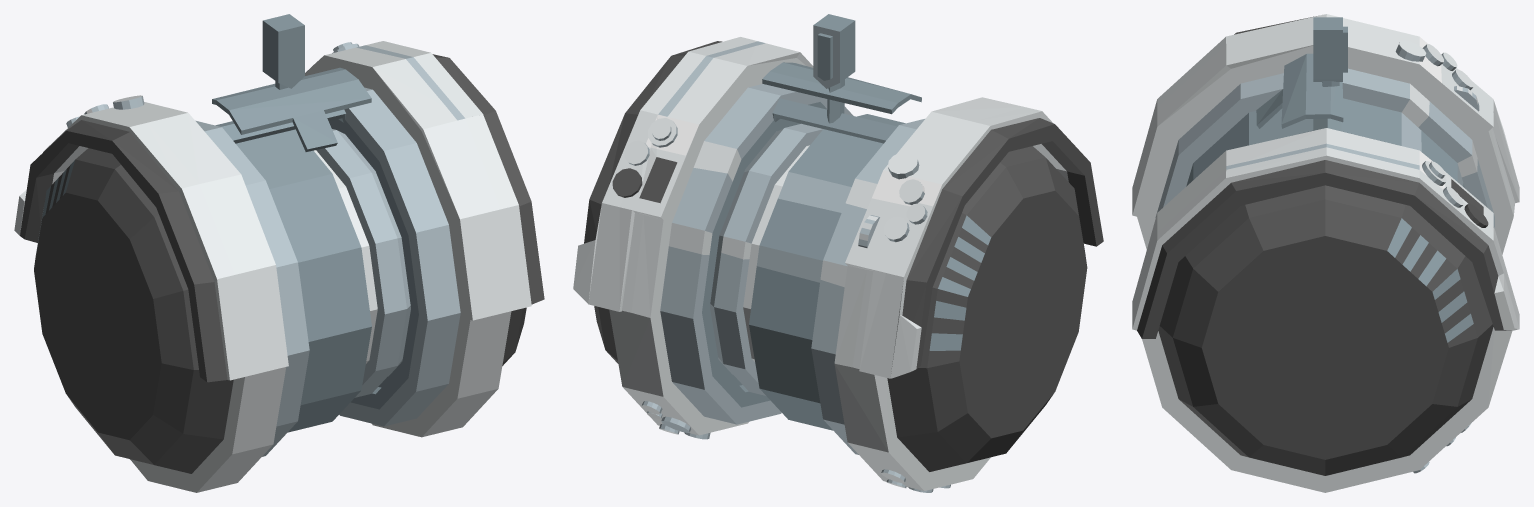
The model's file is Blade Runner Memory Orb by Don Carson - d6YLA5_zLWS.glb.
3 renders of one model, left to right at view 1: azimuth 30°, elevation 25°; view 2: azimuth 150°, elevation 25°; view 3: azimuth 270°, elevation 25°, orthographic. The views are drawn at different scales.
Visible parts, largest first — view 1: group1182483639; view 2: group1182483639; view 3: group1182483639.
Boxes of the visible parts, x1=… form: group1182483639: x1=14, y1=14, x2=544, y2=492; group1182483639: x1=573, y1=14, x2=1103, y2=492; group1182483639: x1=1132, y1=14, x2=1519, y2=492.
Bounding box in the file's own units: 0.8347 × 0.9107 × 0.7812.
